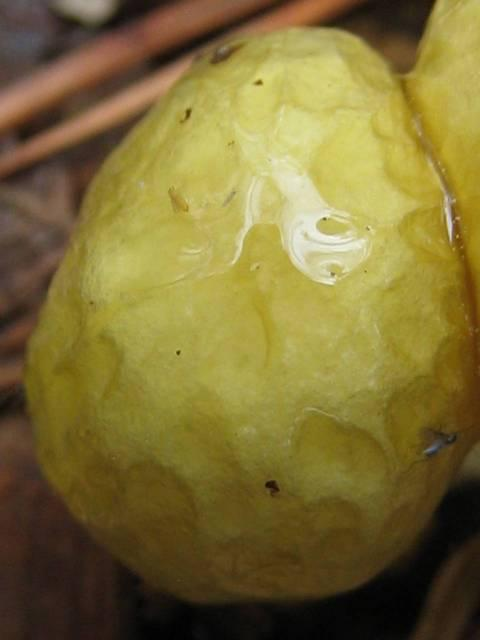Edible Mushroom: (20, 8, 479, 606)
